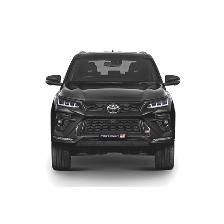NON-EV: (41, 48, 185, 171)
